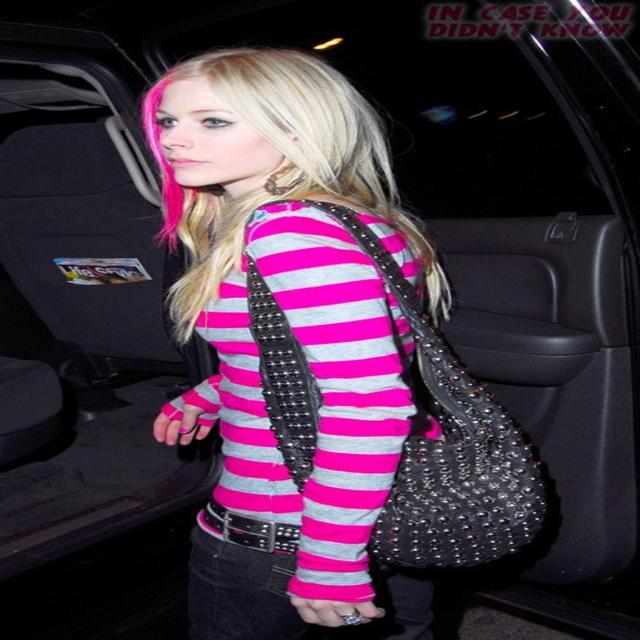Face: (143, 77, 282, 189)
